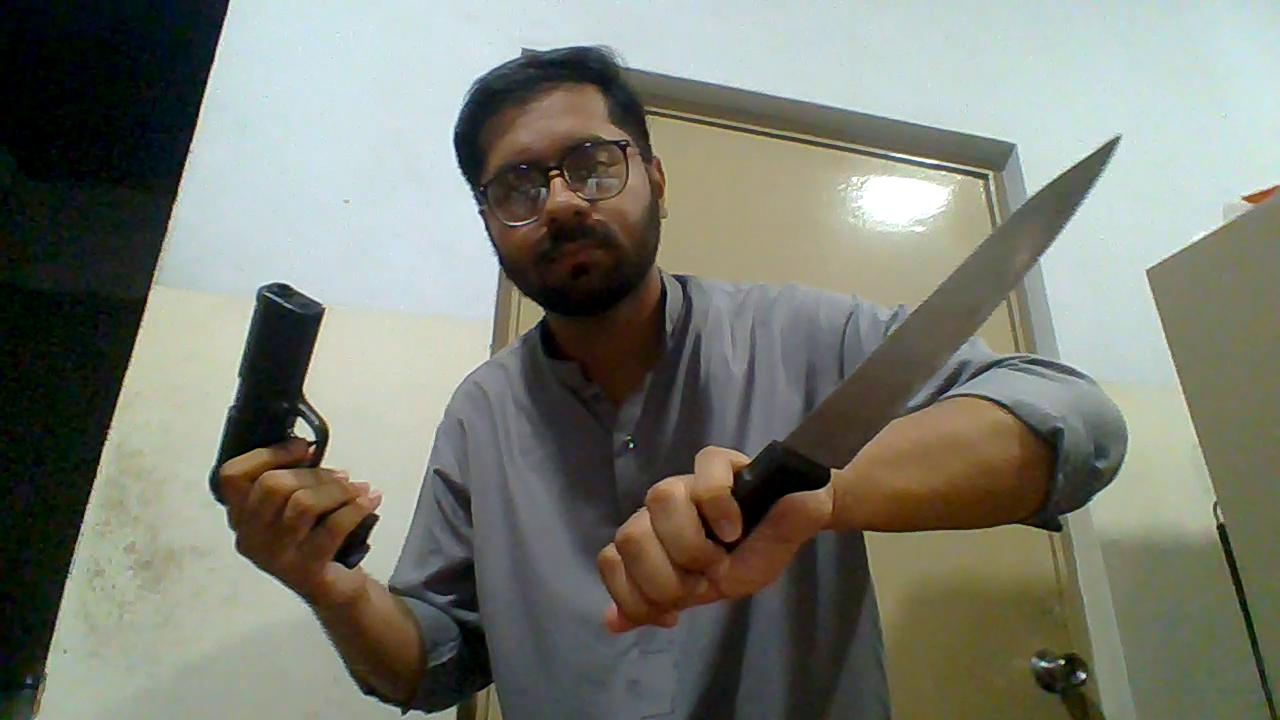criminal: (211, 43, 1130, 720)
weapon: (717, 134, 1120, 553), (211, 284, 382, 567)
